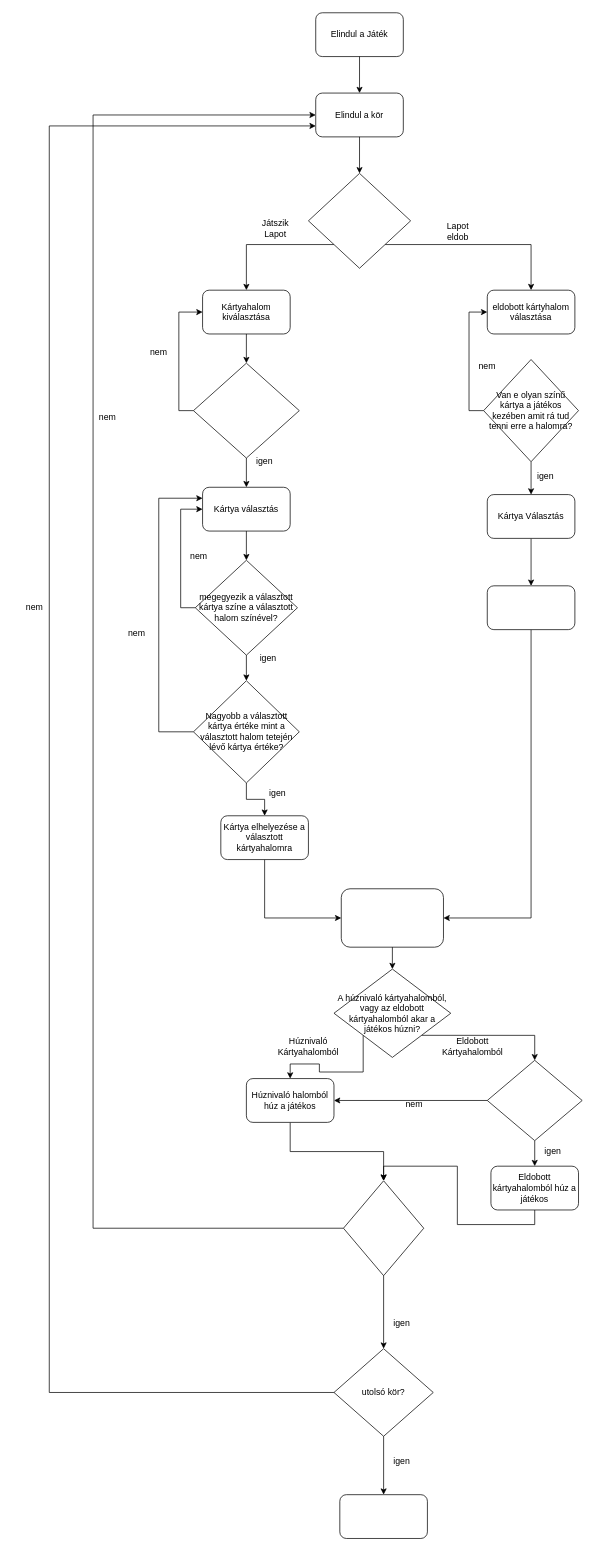
Some shapes in this 595 by 1551 pixel diagram are drawn without their labels. Here are the shapes that lost their labels. From the top down, the centre of each, then its label:
the point at 359,220: Mit csinál a kör elején a játékos?
the point at 246,410: Van olyan színű kártya a játékos kezében amit rá tud tenni erre a halomra?
the point at 531,607: Kártya Kijátszása a választott kártyahalomra
the point at 392,917: Kártya Húzás
the point at 534,1100: Van Kártya az eldobott halmok egyikén, ait fel tud húzni a játékos?
the point at 383,1228: utolsó kártya?
the point at 383,1516: pontozás, nyertes kihirdetése
